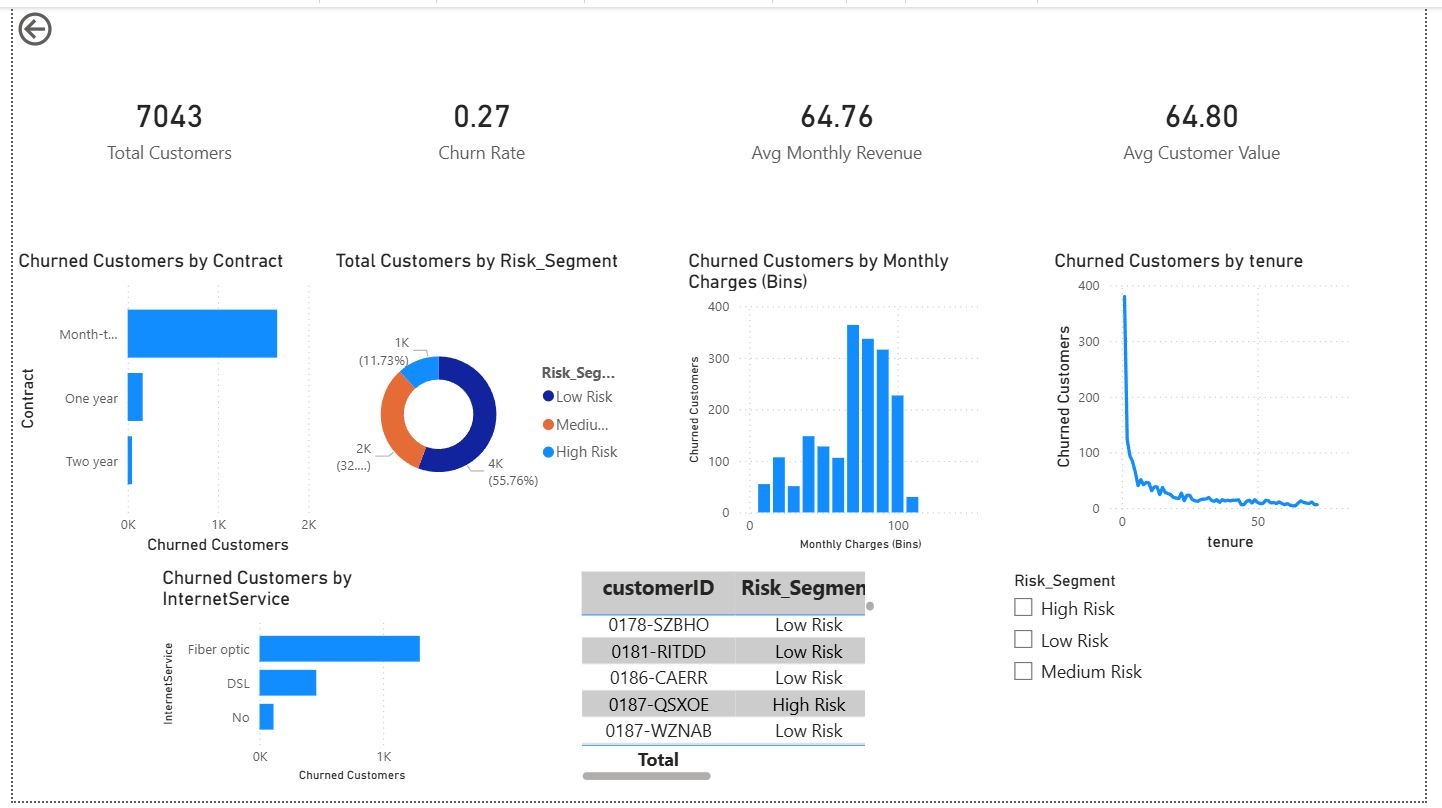

The dashboard page shown, as its layout file describes it:
{"tool":"powerbi","page":{"name":"Page 1","canvas":[1280,720],"ordinal":0},"visuals":[{"type":"card","fields":{"Values":["telco_churn_analysis churn_analysis.Total Customers"]},"box":[16.3,0,251,214.4],"z":3},{"type":"card","fields":{"Values":["telco_churn_analysis churn_analysis.Churn Rate"]},"box":[284.6,0,280.8,214.4],"z":4},{"type":"card","fields":{"Values":["telco_churn_analysis churn_analysis.Avg Monthly Revenue"]},"box":[591.3,0,311.5,214.4],"z":5},{"type":"card","fields":{"Values":["telco_churn_analysis churn_analysis.Avg Customer Value"]},"box":[914.4,0,327.9,214.4],"z":6},{"type":"clusteredBarChart","fields":{"Category":["telco_churn_analysis churn_analysis.Contract"],"Y":["telco_churn_analysis churn_analysis.Churned Customers"]},"box":[0,219.2,279.8,280.8],"z":7},{"type":"donutChart","fields":{"Category":["telco_churn_analysis churn_analysis.Risk_Segment"],"Y":["telco_churn_analysis churn_analysis.Total Customers"]},"box":[287.5,219.2,277.9,280.8],"z":8},{"type":"lineStackedColumnComboChart","fields":{"Category":["telco_churn_analysis churn_analysis.Monthly Charges (Bins)"],"Y":["telco_churn_analysis churn_analysis.Churned Customers"]},"box":[607.7,219.2,277.9,277.9],"z":9},{"type":"lineChart","fields":{"Category":["telco_churn_analysis churn_analysis.tenure"],"Y":["telco_churn_analysis churn_analysis.Churned Customers"]},"box":[939.4,219.2,277.9,277.9],"z":10},{"type":"barChart","fields":{"Category":["telco_churn_analysis churn_analysis.InternetService"],"Y":["telco_churn_analysis churn_analysis.Churned Customers"]},"box":[130.8,506.7,273.1,200],"z":11},{"type":"tableEx","fields":{"Values":["telco_churn_analysis churn_analysis.customerID","telco_churn_analysis churn_analysis.Risk_Segment","Sum(telco_churn_analysis churn_analysis.MonthlyCharges)","telco_churn_analysis churn_analysis.Churn"]},"box":[509.6,506.7,276.9,200],"z":12},{"type":"actionButton","box":[0,0,100,40],"z":13},{"type":"slicer","fields":{"Values":["telco_churn_analysis churn_analysis.Risk_Segment"]},"box":[895.2,506.7,277.9,200],"z":14}]}

Visuals, with their boxes in screenshot pixels (x1, y1, x2, y2), scaled from the page's 1280x720 canvas onto the 1442x808 screenshot:
card - telco_churn_analysis churn_analysis.Total Customers: (18, 0, 301, 241)
card - telco_churn_analysis churn_analysis.Churn Rate: (321, 0, 637, 241)
card - telco_churn_analysis churn_analysis.Avg Monthly Revenue: (666, 0, 1017, 241)
card - telco_churn_analysis churn_analysis.Avg Customer Value: (1030, 0, 1400, 241)
clusteredBarChart - telco_churn_analysis churn_analysis.Contract x telco_churn_analysis churn_analysis.Churned Customers: (0, 246, 315, 561)
donutChart - telco_churn_analysis churn_analysis.Risk_Segment x telco_churn_analysis churn_analysis.Total Customers: (324, 246, 637, 561)
lineStackedColumnComboChart - telco_churn_analysis churn_analysis.Monthly Charges (Bins) x telco_churn_analysis churn_analysis.Churned Customers: (685, 246, 998, 558)
lineChart - telco_churn_analysis churn_analysis.tenure x telco_churn_analysis churn_analysis.Churned Customers: (1058, 246, 1371, 558)
barChart - telco_churn_analysis churn_analysis.InternetService x telco_churn_analysis churn_analysis.Churned Customers: (147, 569, 455, 793)
tableEx - telco_churn_analysis churn_analysis.customerID x telco_churn_analysis churn_analysis.Risk_Segment: (574, 569, 886, 793)
actionButton: (0, 0, 113, 45)
slicer - telco_churn_analysis churn_analysis.Risk_Segment: (1008, 569, 1322, 793)
